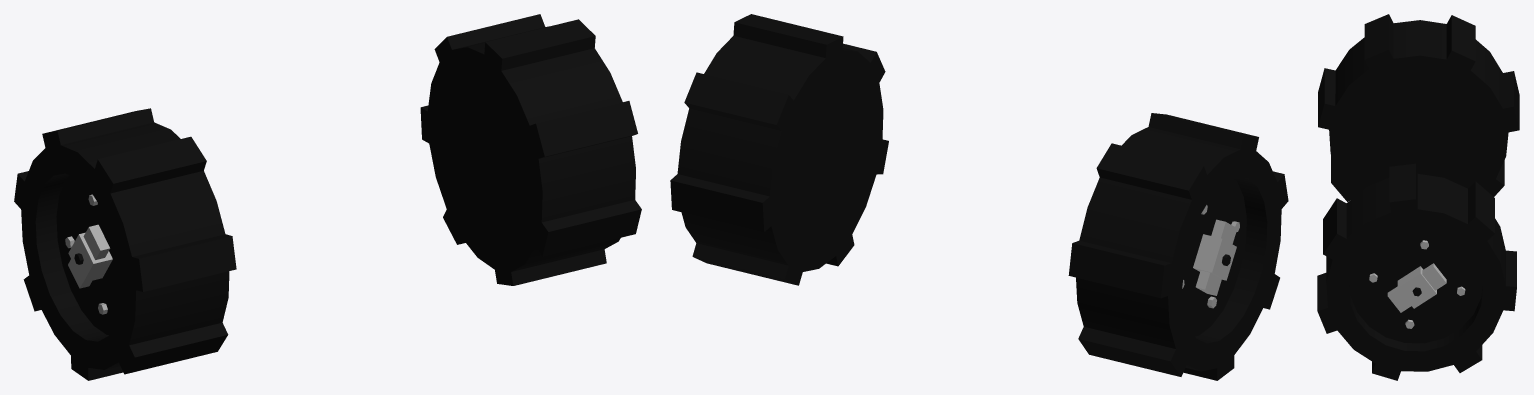
Rendered from Tank_Wheel_Front.fbx.
The picture shows the model from 3 angles, left to right: view 1: azimuth 30°, elevation 25°; view 2: azimuth 150°, elevation 25°; view 3: azimuth 270°, elevation 25°; orthographic projection. The views are drawn at different scales.
Visible parts, largest first — view 1: Tank_Wheel_Front; view 2: Tank_Wheel_Front; view 3: Tank_Wheel_Front.
Part boxes in pixels (bbox=[...]): Tank_Wheel_Front: bbox=[14, 14, 641, 380]; Tank_Wheel_Front: bbox=[670, 14, 1288, 380]; Tank_Wheel_Front: bbox=[1317, 14, 1519, 380].
Bounding box in the file's own units: 182 × 81.37 × 81.43.
